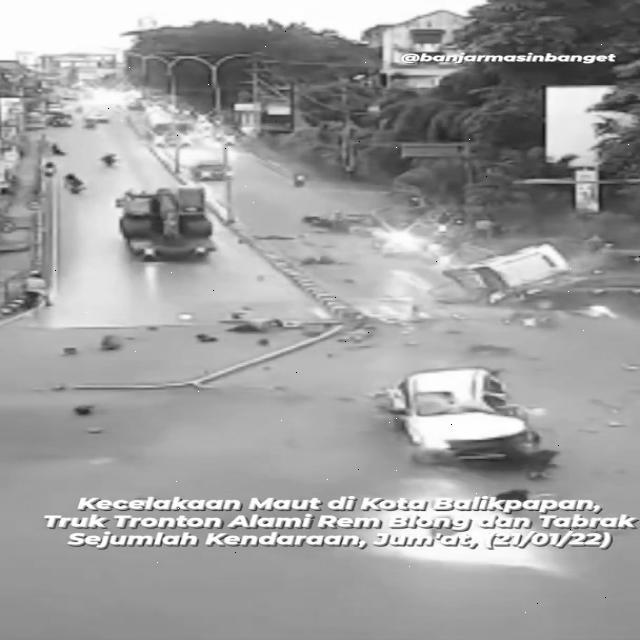accident: (371, 354, 566, 479), (450, 228, 640, 312)
non_accident: (116, 180, 236, 267), (55, 167, 90, 198), (40, 132, 70, 158), (96, 145, 116, 170)
